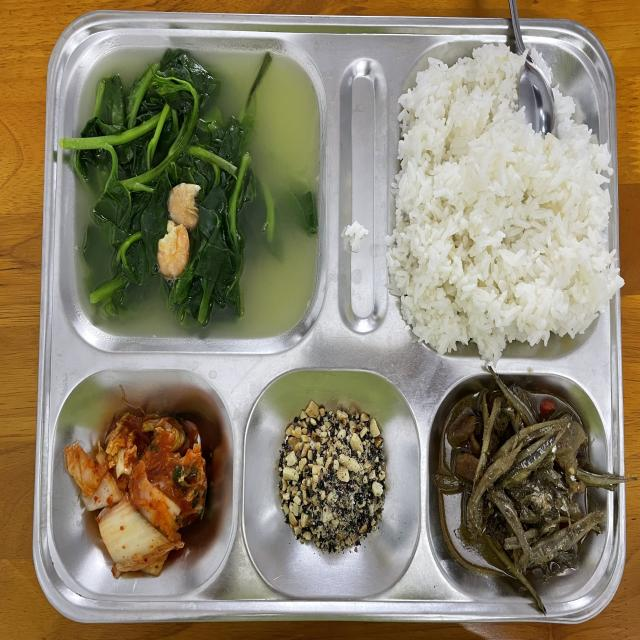canh cai: (60, 49, 320, 337)
com: (387, 44, 621, 360)
